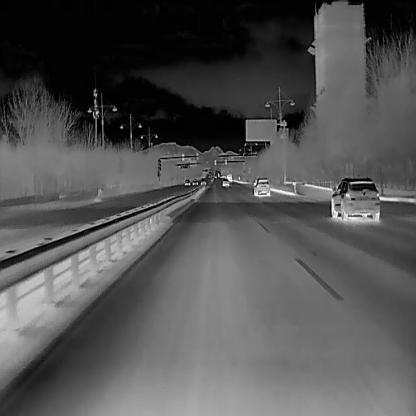car: (330, 175, 380, 221), (252, 175, 272, 197), (222, 178, 229, 187), (183, 178, 190, 185), (191, 178, 197, 184), (227, 173, 231, 181)
